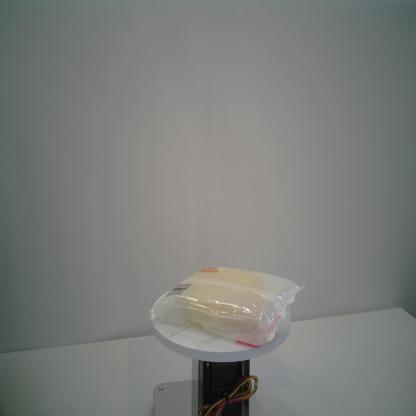Dessert: (141, 264, 308, 347)
